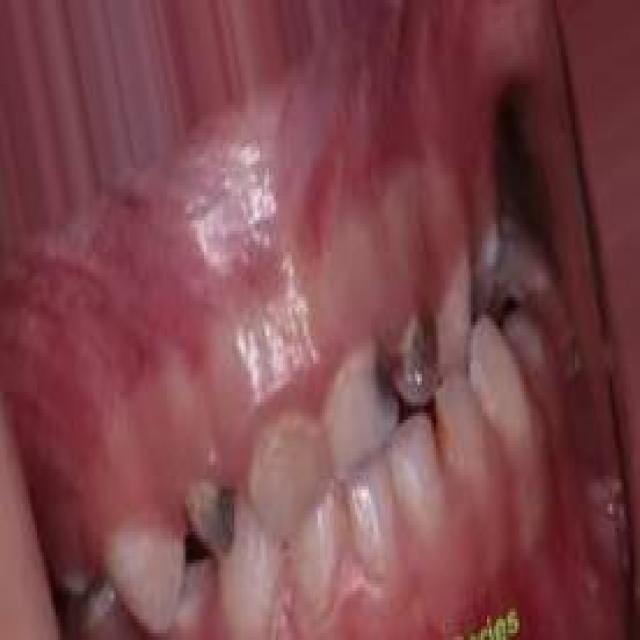caries: (362, 319, 449, 429), (472, 226, 538, 337), (172, 476, 240, 572)
